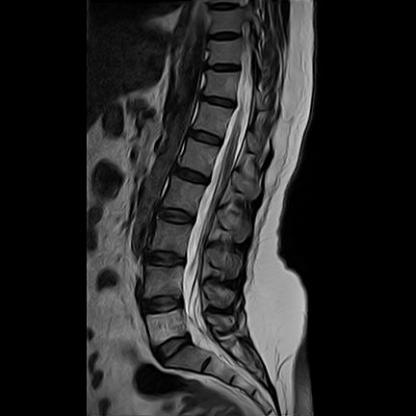Degenerative Disc Diseaserotation: (165, 164, 216, 186)
Disc Bulgerotation: (137, 291, 186, 320)
